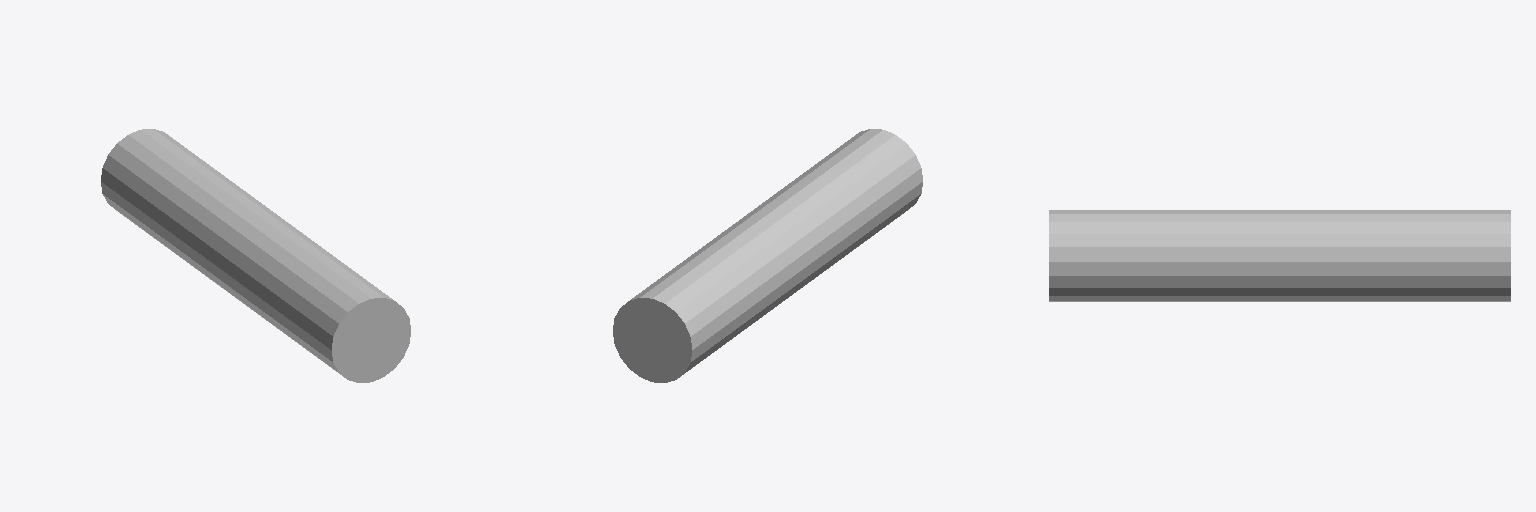
The model's file is beam.obj.
The picture shows the model from 3 angles: view 1: azimuth 30°, elevation 25°; view 2: azimuth 150°, elevation 25°; view 3: azimuth 270°, elevation 25°; orthographic projection.
Parts seen in each view (by area): view 1: pCylinder1; view 2: pCylinder1; view 3: pCylinder1.
Boxes of the visible parts, box(x1,y1,x2,y2) form: pCylinder1: box(101, 129, 410, 382); pCylinder1: box(613, 129, 922, 382); pCylinder1: box(1049, 210, 1510, 301).
Size of the model in its own units: 0.2 by 0.2 by 1.